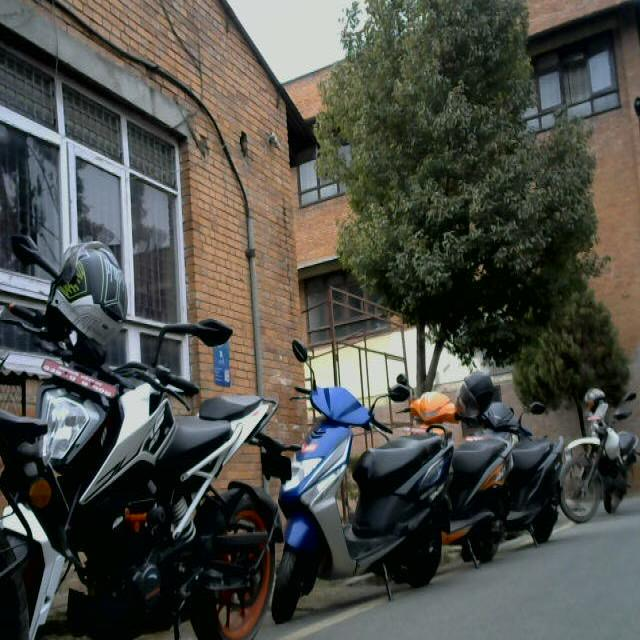Bike: (6, 221, 273, 640), (278, 333, 448, 639), (418, 366, 639, 574)
Buildings: (3, 5, 349, 335)
trees: (330, 0, 632, 381)
